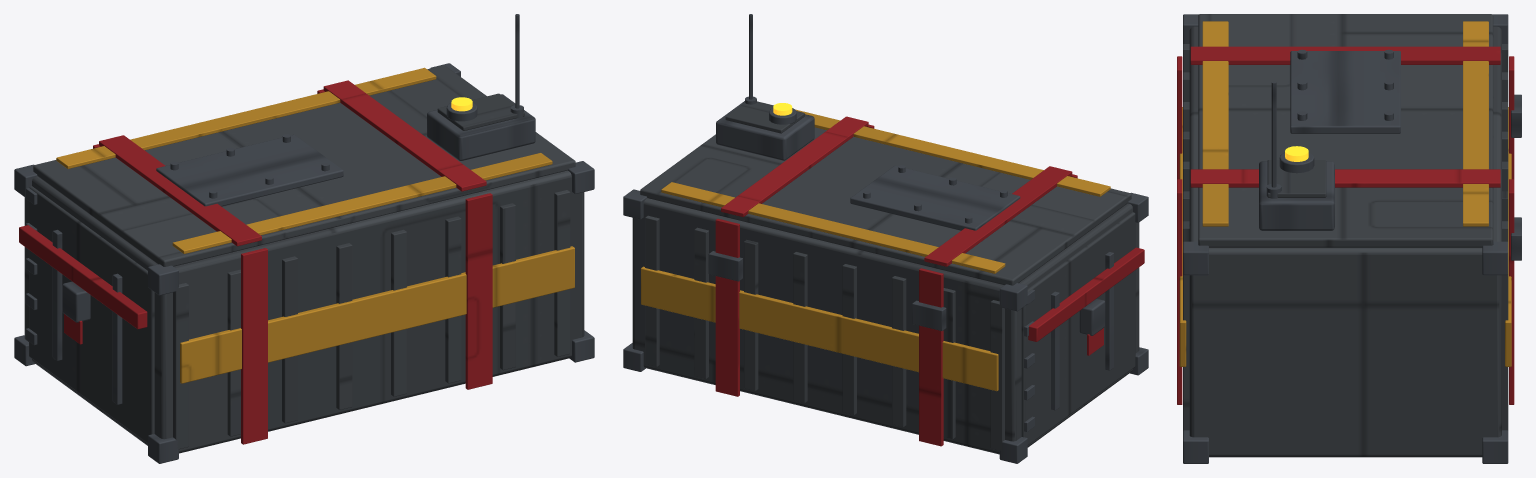
File: pod_47a_evidence_spindle.glb
The picture shows the model from 3 angles, left to right: view 1: azimuth 30°, elevation 25°; view 2: azimuth 150°, elevation 25°; view 3: azimuth 270°, elevation 25°; orthographic projection. The views are drawn at different scales.
Visible parts, largest first — view 1: LOD0_Hull, LOD0_Warning, LOD0_Livery_seal, LOD0_Mechanical; view 2: LOD0_Hull, LOD0_Warning, LOD0_Mechanical, LOD0_Livery_seal; view 3: LOD0_Hull, LOD0_Mechanical, LOD0_Livery_seal, LOD0_Warning.
Part boxes in pixels (<box>): LOD0_Hull: <box>24,65,584,453</box>; LOD0_Warning: <box>56,67,574,383</box>; LOD0_Livery_seal: <box>19,80,492,444</box>; LOD0_Mechanical: <box>14,14,594,463</box>; LOD0_Hull: <box>632,101,1139,454</box>; LOD0_Warning: <box>641,109,1110,391</box>; LOD0_Mechanical: <box>623,14,1148,463</box>; LOD0_Livery_seal: <box>715,116,1144,446</box>; LOD0_Hull: <box>1183,14,1508,457</box>; LOD0_Mechanical: <box>1183,14,1521,463</box>; LOD0_Livery_seal: <box>1177,46,1514,404</box>; LOD0_Warning: <box>1179,21,1511,366</box>.
Size of what is drawn, in the model's own units: 5.41 by 3.68 by 3.18.
Materials: 5 (4 with a texture image).
